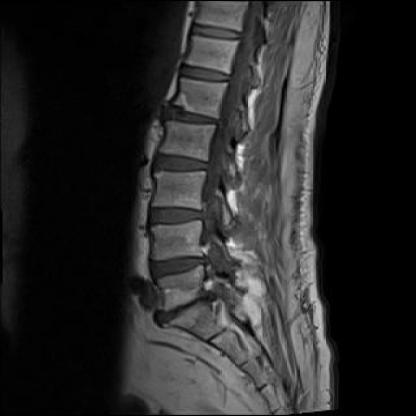Degenerative Disc Diseaserotation: (145, 247, 222, 281), (141, 294, 230, 321)
Disc Bulgerotation: (144, 248, 220, 281), (143, 295, 231, 319)
Disc Relaxationrotation: (155, 98, 225, 131), (149, 147, 213, 178), (145, 201, 209, 232)
